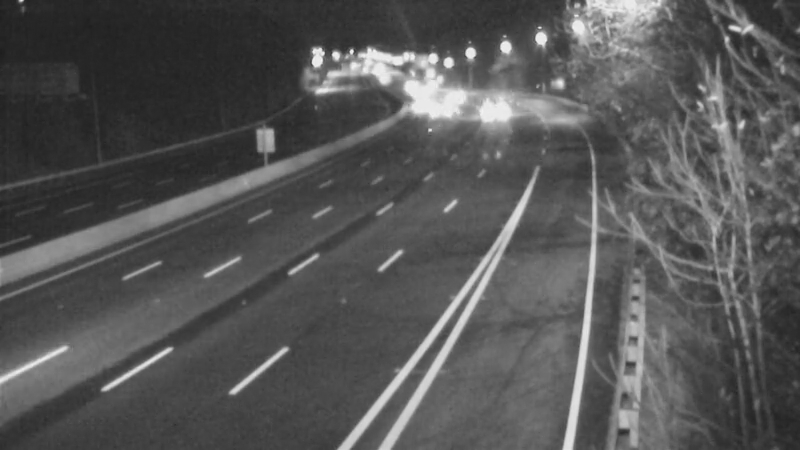vehicle: (430, 70, 480, 120), (397, 81, 447, 131), (467, 86, 517, 136), (421, 87, 471, 137)
